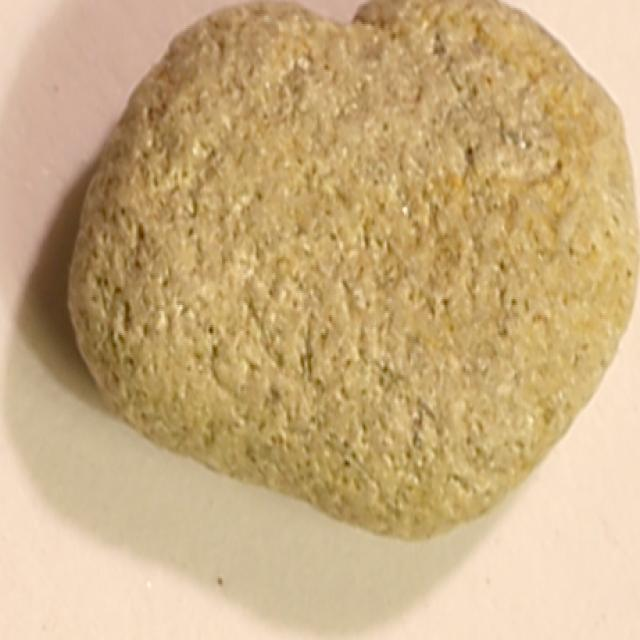stone: (68, 0, 640, 540)
